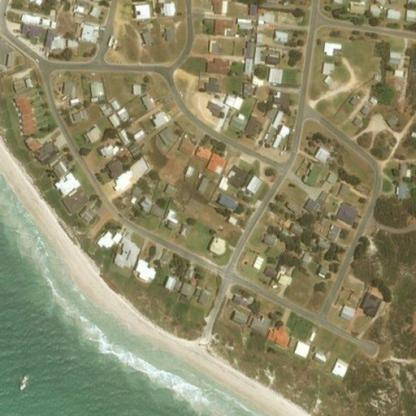ship: (19, 376, 27, 390)
